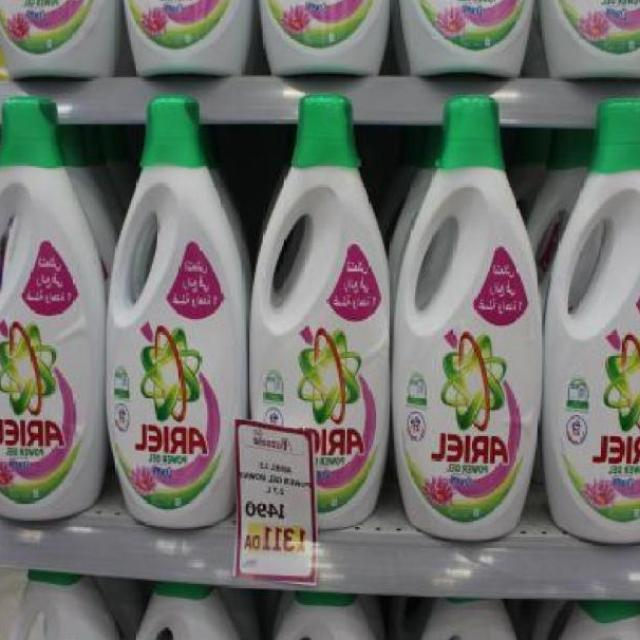Detergent: (400, 79, 543, 544), (106, 83, 250, 524), (249, 90, 398, 514), (542, 93, 640, 544)
